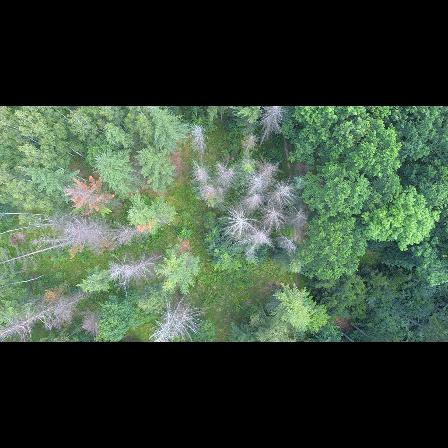Dead: (1, 287, 95, 339), (66, 216, 144, 239), (107, 251, 163, 283), (259, 107, 285, 143), (221, 209, 256, 235), (161, 297, 183, 336), (219, 153, 242, 189), (244, 227, 270, 257), (189, 158, 213, 187), (172, 304, 190, 338), (262, 203, 286, 228), (189, 122, 207, 154), (273, 181, 294, 200), (247, 187, 265, 206), (247, 173, 266, 191)
